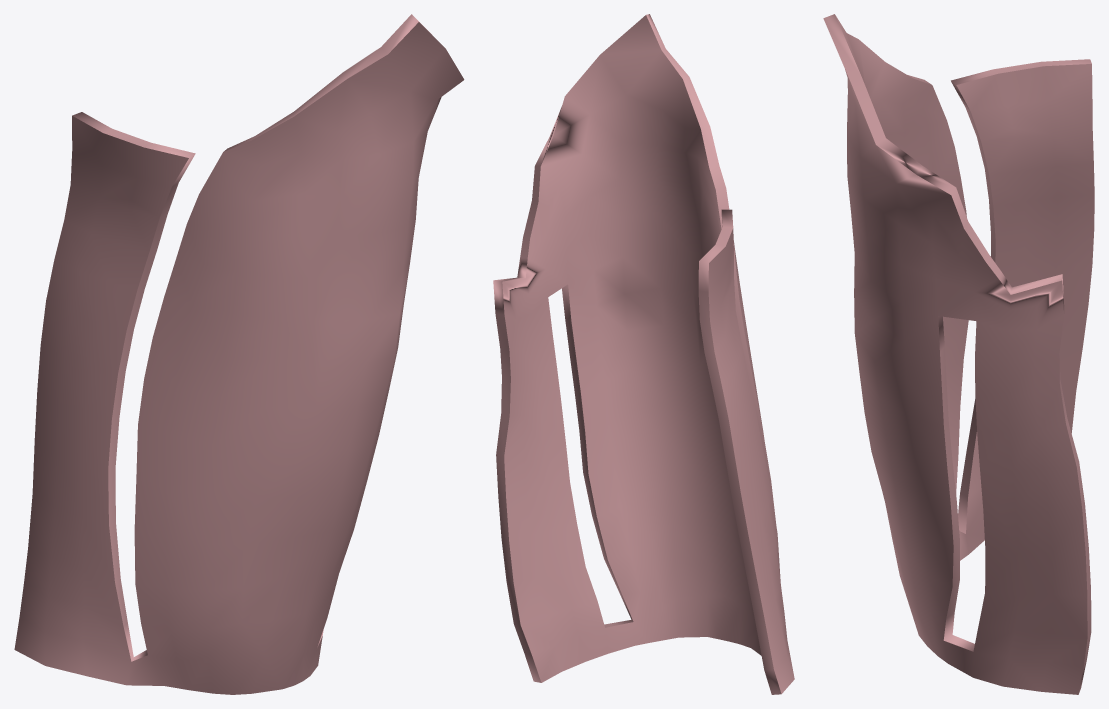
3 renders of one model, left to right at view 1: azimuth 30°, elevation 25°; view 2: azimuth 150°, elevation 25°; view 3: azimuth 270°, elevation 25°, orthographic. The views are drawn at different scales.
Parts seen in each view (by area): view 1: ZA_74e3b4d1bf5aa598; view 2: ZA_74e3b4d1bf5aa598; view 3: ZA_74e3b4d1bf5aa598.
Part boxes in pixels (<box>): ZA_74e3b4d1bf5aa598: <box>14,14,464,694</box>; ZA_74e3b4d1bf5aa598: <box>493,14,794,694</box>; ZA_74e3b4d1bf5aa598: <box>823,14,1094,694</box>.
Size of the model in its own units: 0.096 by 0.1823 by 0.0662.
